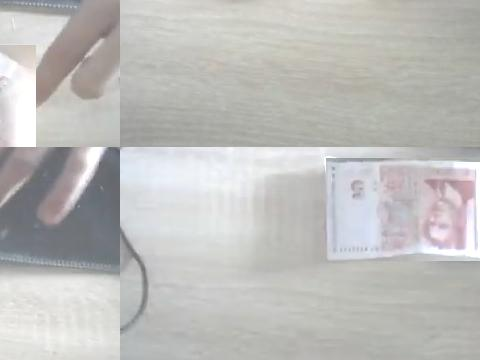5leva: (326, 158, 480, 259), (0, 48, 36, 147)
